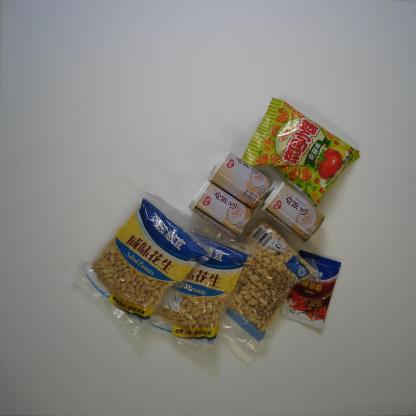Canned Food: (188, 178, 254, 241), (260, 180, 326, 243), (208, 149, 274, 210)
Dried Fruit: (71, 187, 222, 343), (140, 219, 261, 362), (218, 209, 323, 362)
Puffed Food: (240, 96, 363, 209)
Seasoner: (279, 249, 342, 331)
